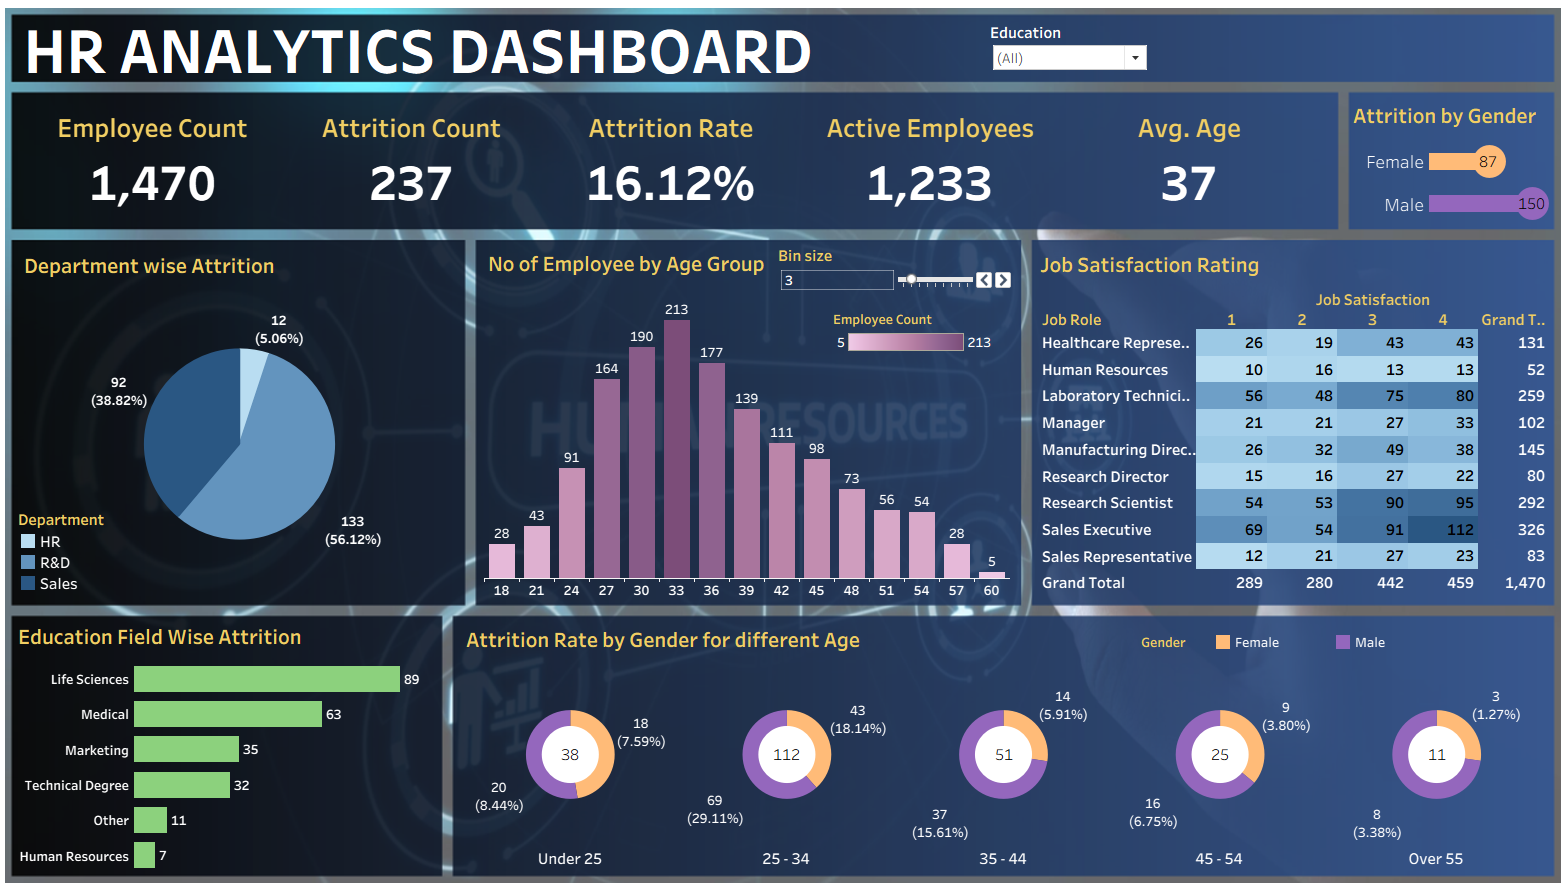

The dashboard page shown, as its layout file describes it:
{"tool":"tableau","page":{"name":"HR ANALYSTICS","canvas":[1580,900],"ordinal":0},"visuals":[{"type":"image","param":"C:/Users/DELL/OneDrive/Desktop/HR background.pptx.png","box":[8,8,1564,884]},{"type":"text","box":[27,23,1022,59]},{"type":"filter","title":"Department wise Attrition ","param":"[federated.1xe2s7714qd3r01a77lhv1kycfb8].[none:Education:nk]","box":[997,26,160,50]},{"type":"worksheet","title":"Attrition by Gender","mark":"Automatic","rows":["Gender"],"cols":["Calculation_0893106370334720","Calculation_0893106370334720"],"box":[1356,101,206,128]},{"type":"worksheet","title":"KPI","mark":"Automatic","box":[30,108,1296,114]},{"type":"worksheet","title":"No of Employee by Age Group","mark":"Automatic","rows":["Employee Count"],"cols":["Age (bin)"],"box":[491,249,526,355]},{"type":"parameter","param":"[Parameters].[Parameter 0370563519946752]","box":[785,249,236,56]},{"type":"worksheet","title":"Job Satisfaction Rating ","mark":"Square","rows":["Job Role"],"cols":["Job Satisfaction"],"box":[1043,250,513,350]},{"type":"worksheet","title":"Department wise Attrition ","mark":"Pie","box":[27,251,439,351]},{"type":"legend","title":"No of Employee by Age Group","param":"[federated.1xe2s7714qd3r01a77lhv1kycfb8].[sum:Employee Count:qk]","box":[840,314,163,49]},{"type":"legend","title":"Department wise Attrition ","param":"[federated.1xe2s7714qd3r01a77lhv1kycfb8].[none:Department:nk]","box":[25,513,140,85]},{"type":"worksheet","title":"Education Field Wise Attrition ","mark":"Automatic","rows":["Education Field"],"cols":["Calculation_0893106370334720"],"box":[21,622,425,255]},{"type":"worksheet","title":"Attrition Rate by Gender for different Age ","mark":"Pie","rows":["Calculation_0370563531579394","Calculation_0370563531579394"],"cols":["CF_age band"],"box":[469,625,1083,249]},{"type":"legend","title":"Attrition Rate by Gender for different Age ","param":"[federated.1xe2s7714qd3r01a77lhv1kycfb8].[none:Gender:nk]","box":[1148,636,357,30]}]}

Visuals, with their boxes in screenshot pixels (x1, y1, x2, y2), scaled from the page's 1580x900 canvas onto the 1567x890 screenshot:
image: 8/8/1559/882
text: 27/23/1040/81
"Department wise Attrition " filter: 989/26/1147/75
"Attrition by Gender" worksheet: 1345/100/1549/226
"KPI" worksheet: 30/107/1315/220
"No of Employee by Age Group" worksheet: 487/246/1009/597
parameter: 779/246/1013/302
"Job Satisfaction Rating " worksheet (Square marks): 1034/247/1543/593
"Department wise Attrition " worksheet (Pie marks): 27/248/462/595
"No of Employee by Age Group" legend: 833/311/995/359
"Department wise Attrition " legend: 25/507/164/591
"Education Field Wise Attrition " worksheet: 21/615/442/867
"Attrition Rate by Gender for different Age " worksheet (Pie marks): 465/618/1539/864
"Attrition Rate by Gender for different Age " legend: 1139/629/1493/659
